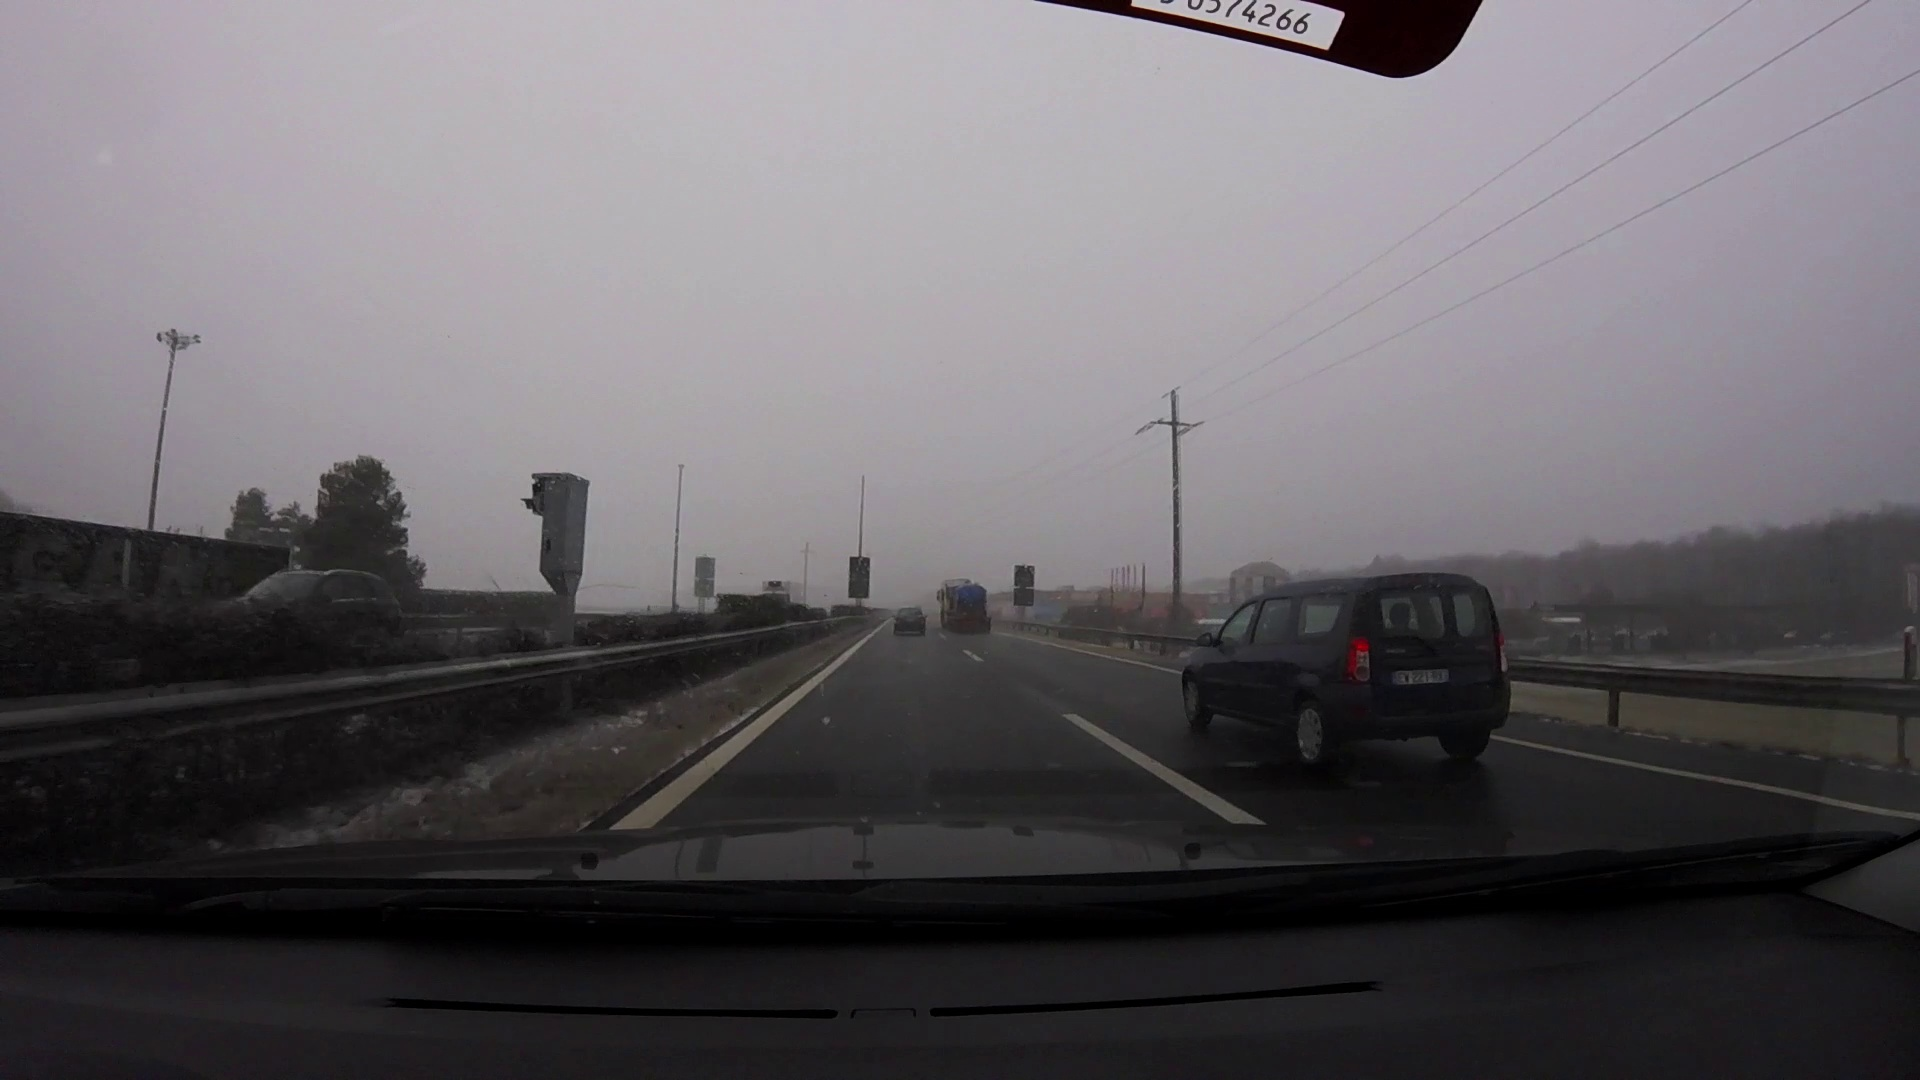radar: (518, 469, 597, 609)
